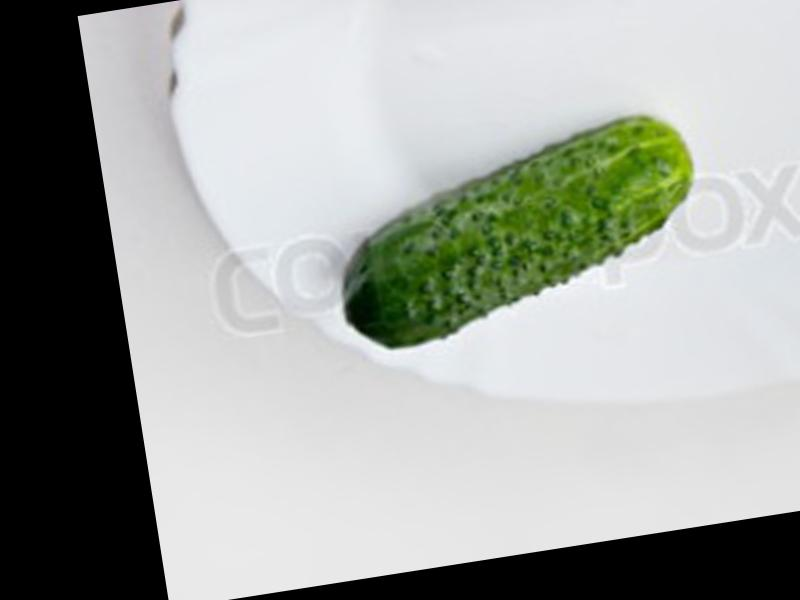Cucumber: (325, 108, 710, 354)
